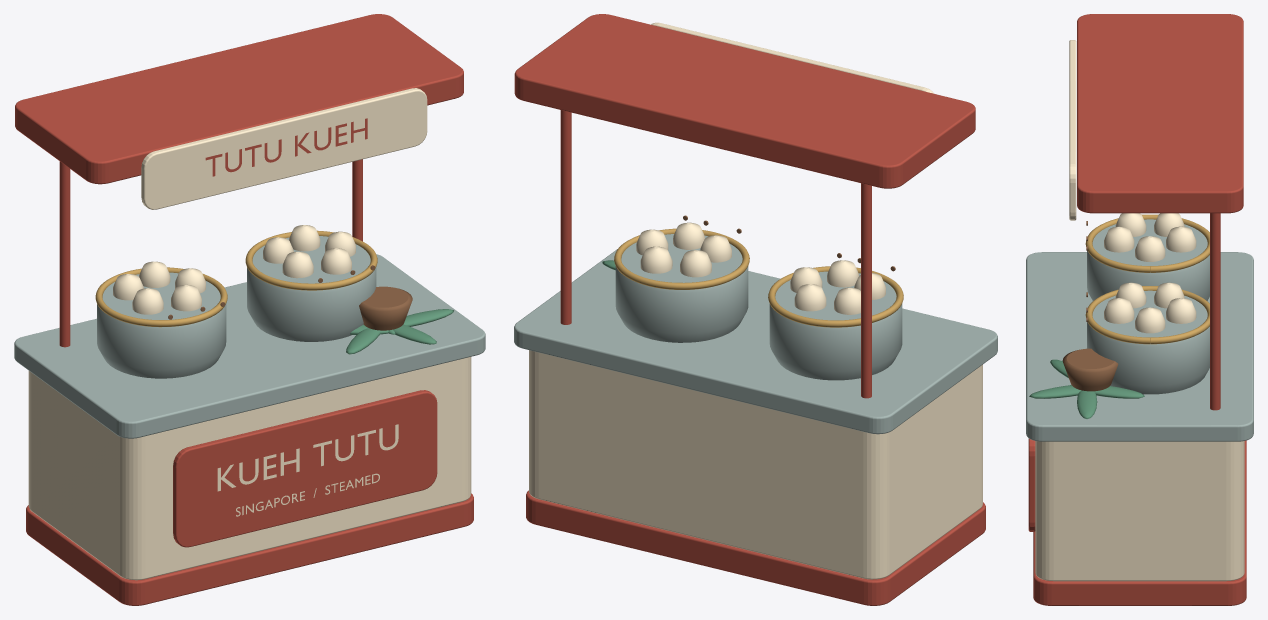
3 renders of one model, left to right at view 1: azimuth 30°, elevation 25°; view 2: azimuth 150°, elevation 25°; view 3: azimuth 270°, elevation 25°, orthographic. The views are drawn at different scales.
Visible parts, largest first — view 1: Singapore | Tutu Kueh Cart - Cabinetry, Singapore | Tutu Kueh Cart - Graphics, Singapore | Tutu Kueh Cart - Turned fittings, Singapore | Tutu Kueh Cart - Metalwork, Singapore | Tutu Kueh Cart - Sculpture; view 2: Singapore | Tutu Kueh Cart - Cabinetry, Singapore | Tutu Kueh Cart - Turned fittings, Singapore | Tutu Kueh Cart - Metalwork, Singapore | Tutu Kueh Cart - Graphics; view 3: Singapore | Tutu Kueh Cart - Cabinetry, Singapore | Tutu Kueh Cart - Turned fittings, Singapore | Tutu Kueh Cart - Graphics, Singapore | Tutu Kueh Cart - Metalwork, Singapore | Tutu Kueh Cart - Sculpture.
Part boxes in pixels (box(x1,y1,x2,y2)): Singapore | Tutu Kueh Cart - Cabinetry: box(14, 14, 485, 605); Singapore | Tutu Kueh Cart - Graphics: box(141, 88, 437, 547); Singapore | Tutu Kueh Cart - Turned fittings: box(95, 225, 412, 378); Singapore | Tutu Kueh Cart - Metalwork: box(59, 159, 362, 347); Singapore | Tutu Kueh Cart - Sculpture: box(346, 309, 453, 354); Singapore | Tutu Kueh Cart - Cabinetry: box(514, 14, 997, 605); Singapore | Tutu Kueh Cart - Turned fittings: box(614, 222, 903, 380); Singapore | Tutu Kueh Cart - Metalwork: box(560, 110, 871, 398); Singapore | Tutu Kueh Cart - Graphics: box(651, 22, 933, 93); Singapore | Tutu Kueh Cart - Cabinetry: box(1026, 14, 1253, 605); Singapore | Tutu Kueh Cart - Turned fittings: box(1062, 213, 1209, 394); Singapore | Tutu Kueh Cart - Graphics: box(1028, 40, 1076, 531); Singapore | Tutu Kueh Cart - Metalwork: box(1210, 213, 1220, 410); Singapore | Tutu Kueh Cart - Sculpture: box(1029, 359, 1144, 418).
Bounding box in the file's own units: 2.08 × 2.28 × 1.12.
